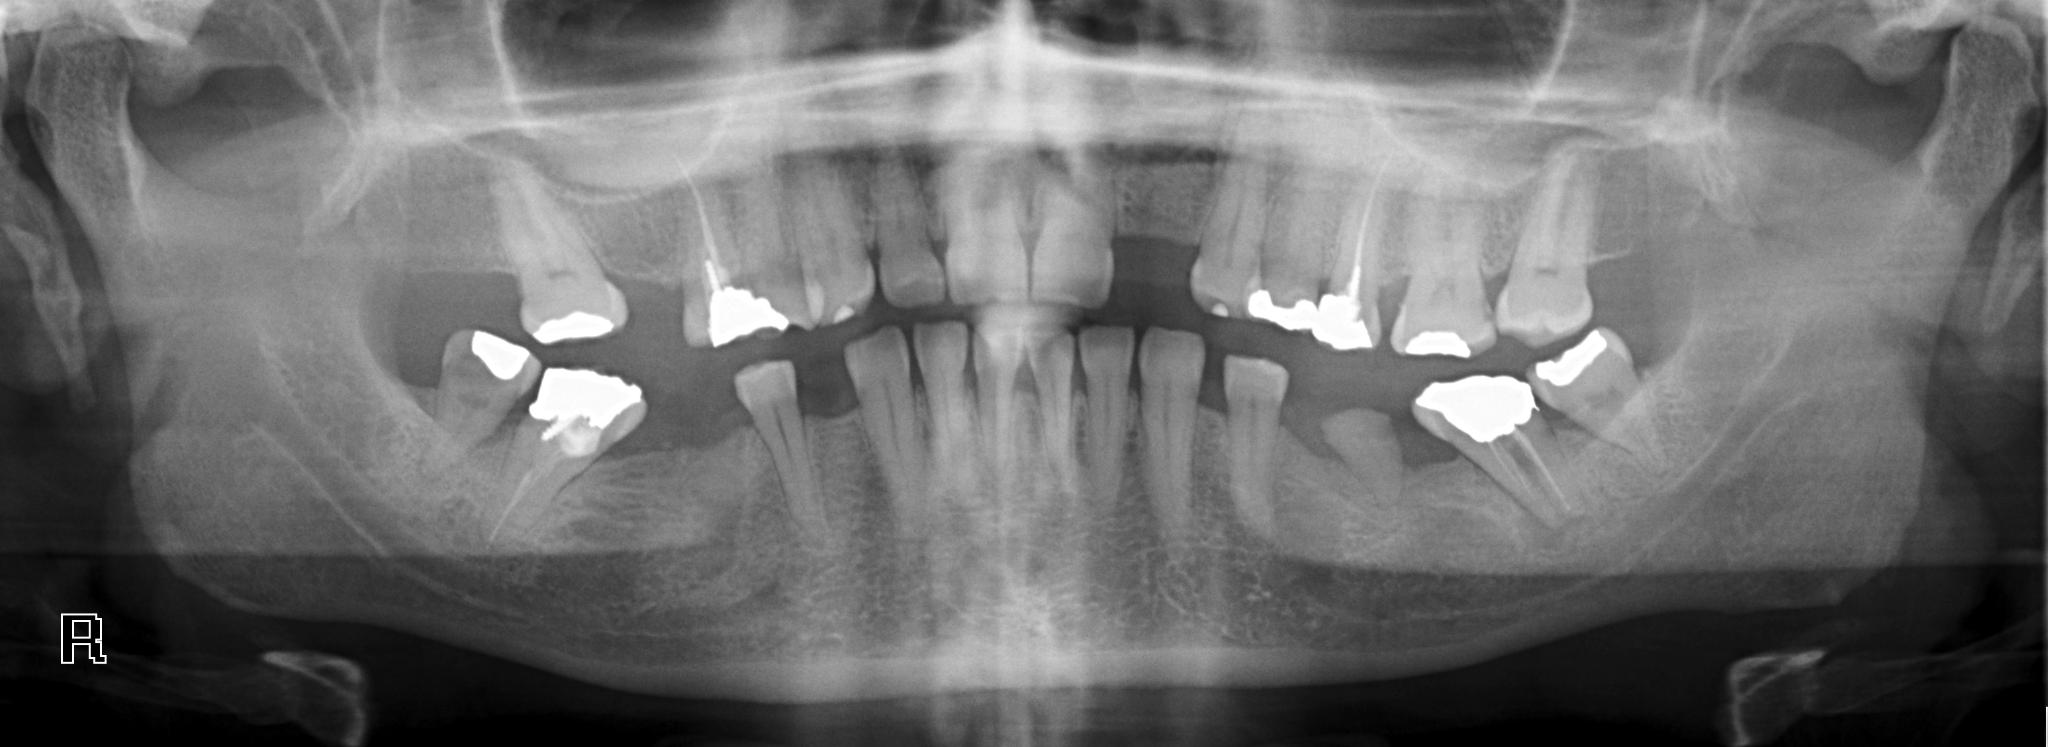Fillings: (487, 363, 652, 545), (1382, 193, 1496, 372), (507, 191, 628, 346), (1409, 372, 1563, 494), (1246, 191, 1322, 332), (64, 612, 101, 663)
Implant: (679, 182, 802, 347), (1317, 191, 1395, 357)
